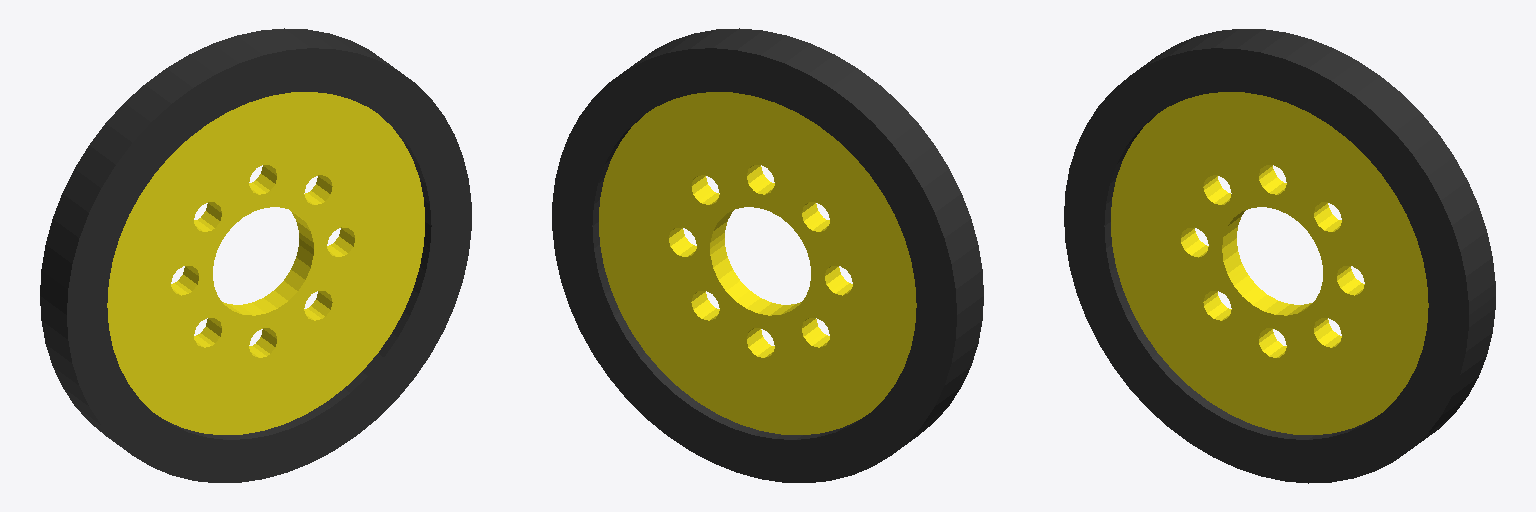
The model's file is ROB-12289.obj.
3 views of the same model, side by side, from view 1: azimuth 30°, elevation 25°; view 2: azimuth 150°, elevation 25°; view 3: azimuth 330°, elevation 25° (orthographic).
Parts seen in each view (by area): view 1: mesh 2 Boss-Extrude1, mesh 1 RO; view 2: mesh 2 Boss-Extrude1, mesh 1 RO; view 3: mesh 2 Boss-Extrude1, mesh 1 RO.
Boxes of the visible parts, box(x1,y1,x2,y2) form: mesh 2 Boss-Extrude1: box(107, 92, 424, 434); mesh 1 RO: box(40, 28, 471, 482); mesh 2 Boss-Extrude1: box(599, 92, 916, 434); mesh 1 RO: box(552, 28, 983, 482); mesh 2 Boss-Extrude1: box(1111, 92, 1428, 434); mesh 1 RO: box(1064, 29, 1495, 483).
Bounding box in the file's own units: 0.0508 × 0.0508 × 0.0058.